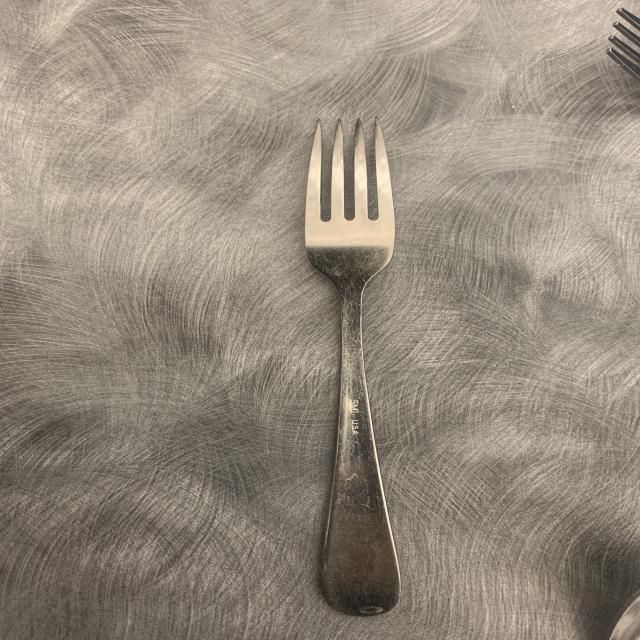fork: (284, 113, 444, 627)
